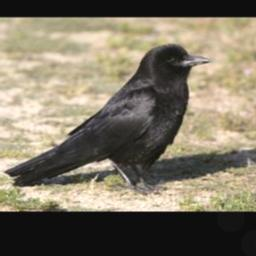Crow: (2, 42, 213, 194)
